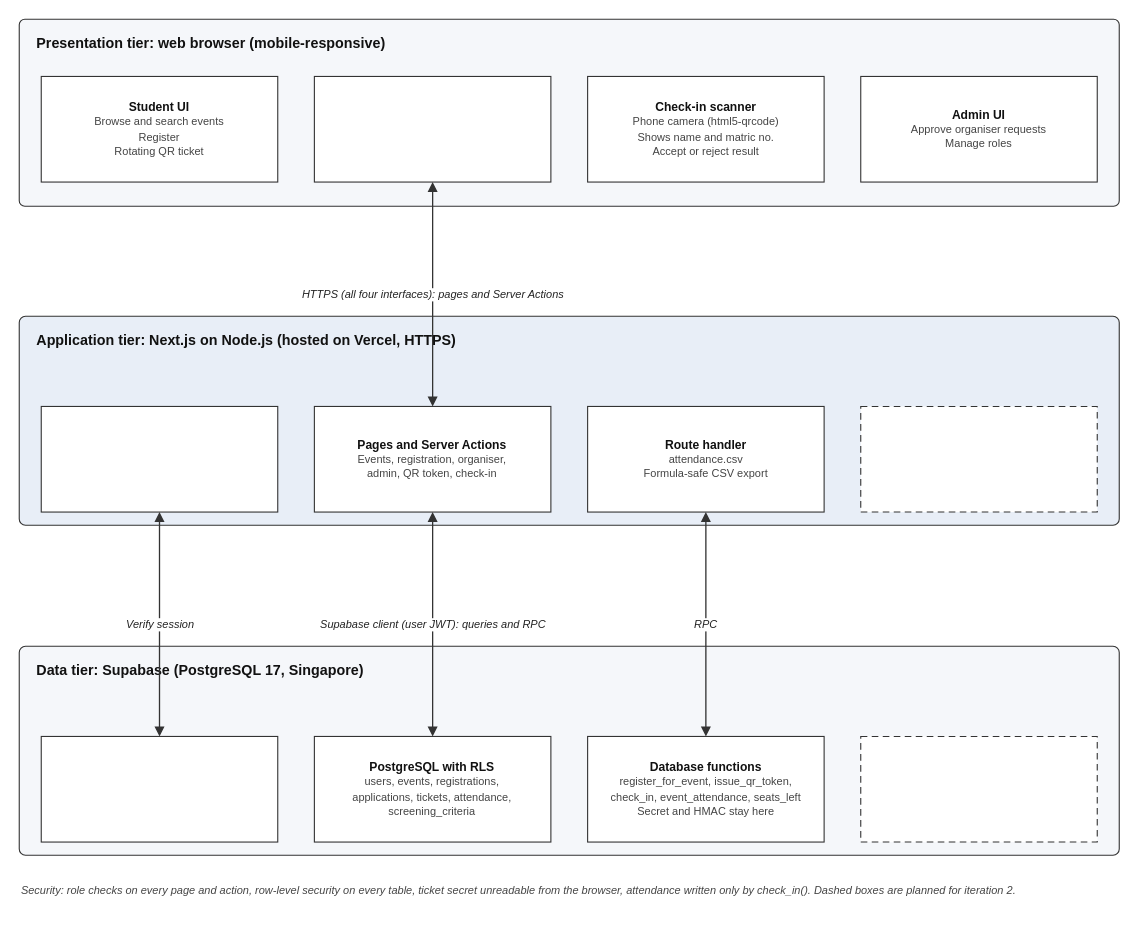
This 1139x930 diagram has some shape labels left out. The shapes that lost their labels are listed below. From the top down, each one's centre as x and y in pixels, then its label:
point (432, 128): Organiser UI Create and publish events Participants and attendance CSV download
point (159, 458): Proxy (proxy.ts) Refreshes the session cookie Redirects signed-out visitors
point (978, 458): Resume screening Rule-based PDF check (iteration 2)
point (159, 788): Supabase Auth Accounts and sessions (JWT) Email and password
point (978, 788): File storage Private resume bucket (iteration 2)
